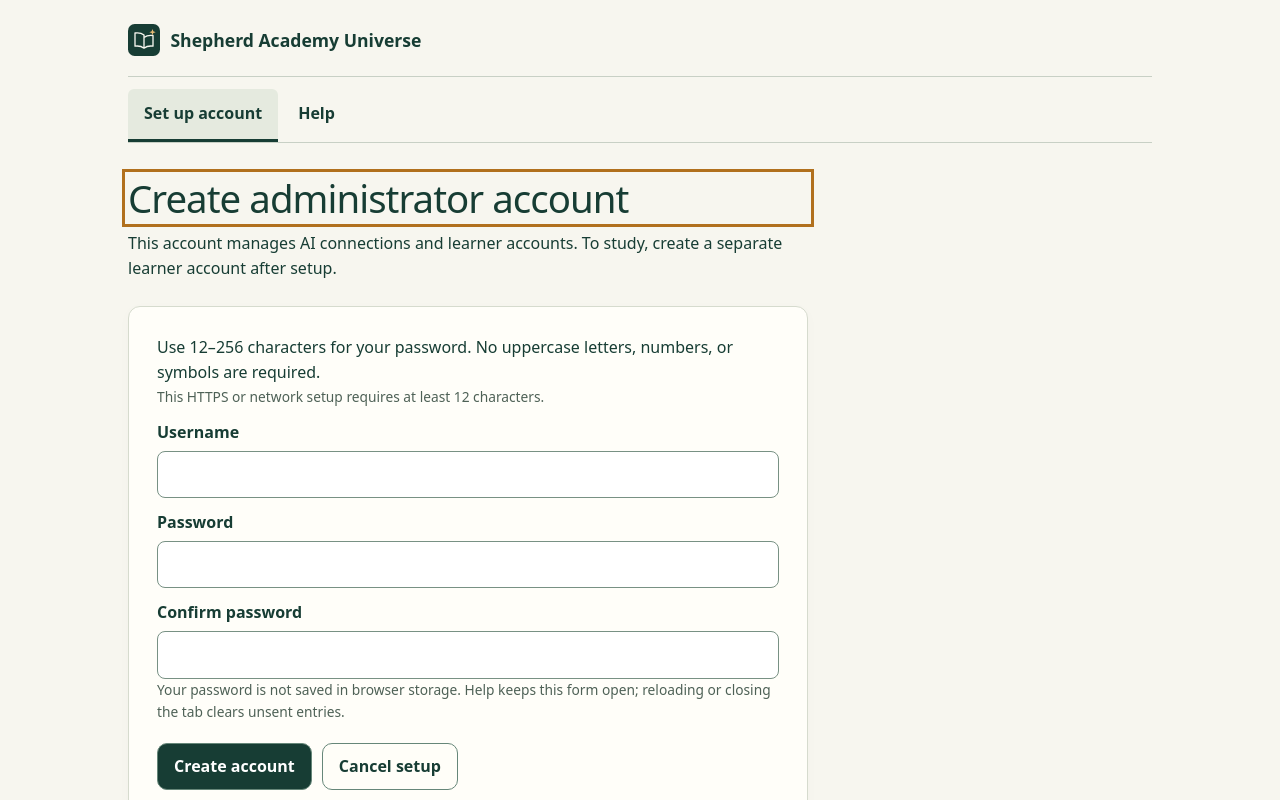
it: browser first-account setup › uses the server's network password policy before entry
Expected: the button "Create account" is shown, [157, 743, 312, 790]
Type "Synthetic" into the field labelled "Username".
click(468, 474); type("Synthetic")  # box [157, 451, 779, 498]
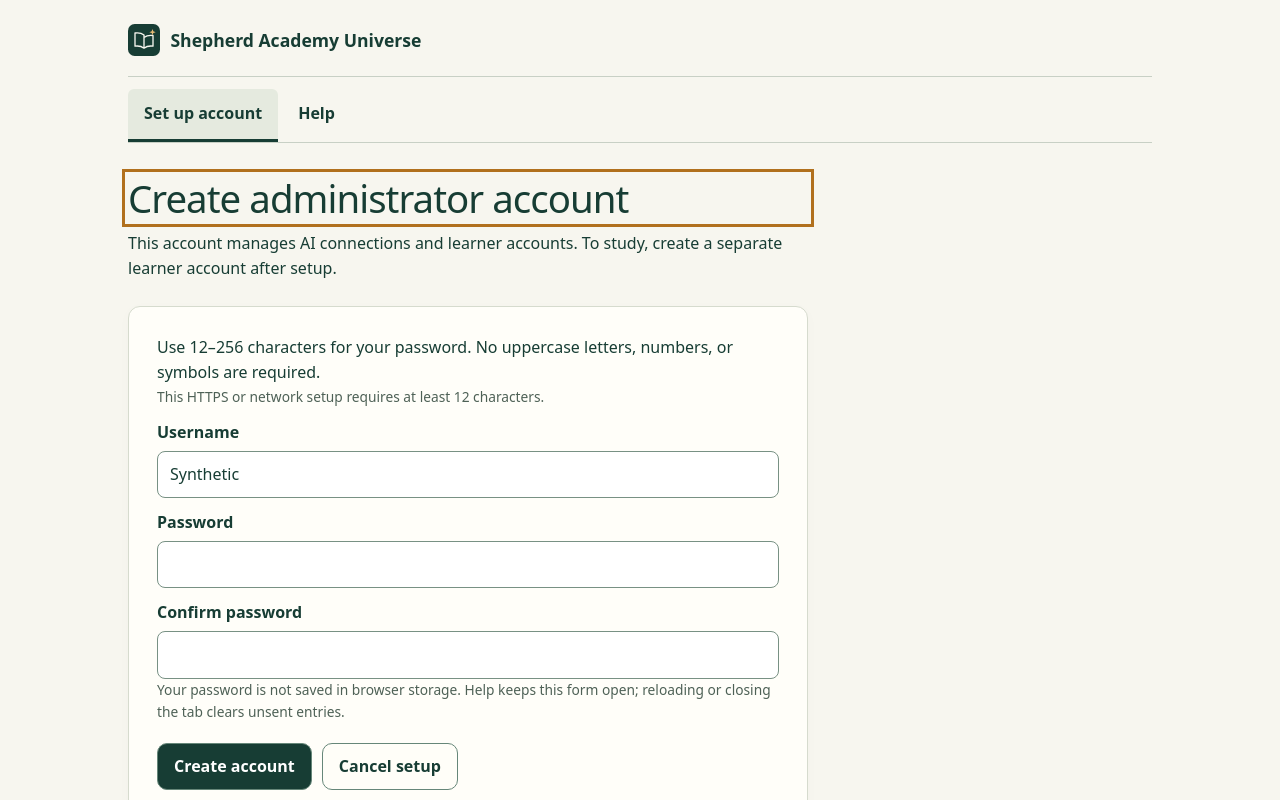
Type "simple" into the password field labelled "Password".
click(468, 565); type("simple")  # box [157, 541, 779, 588]
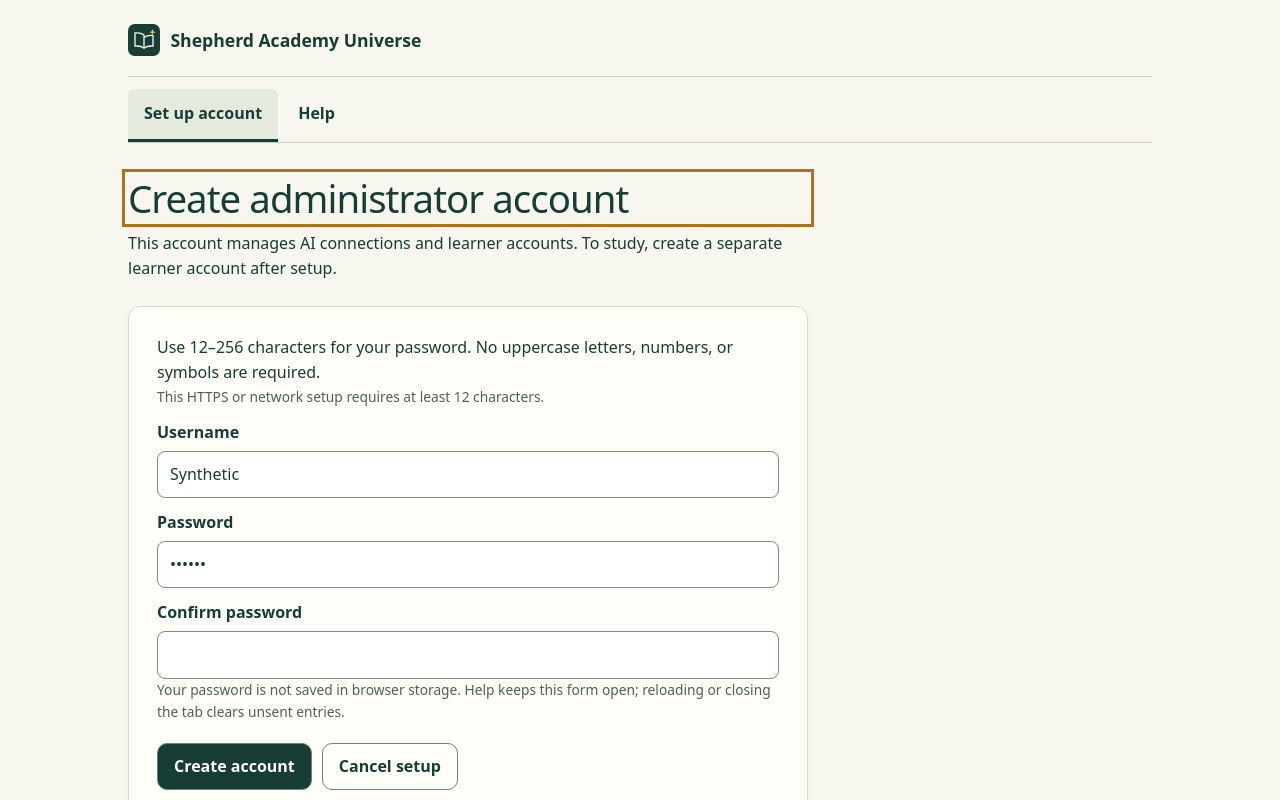
Type "simple" into the password field labelled "Confirm password".
click(468, 655); type("simple")  # box [157, 631, 779, 679]
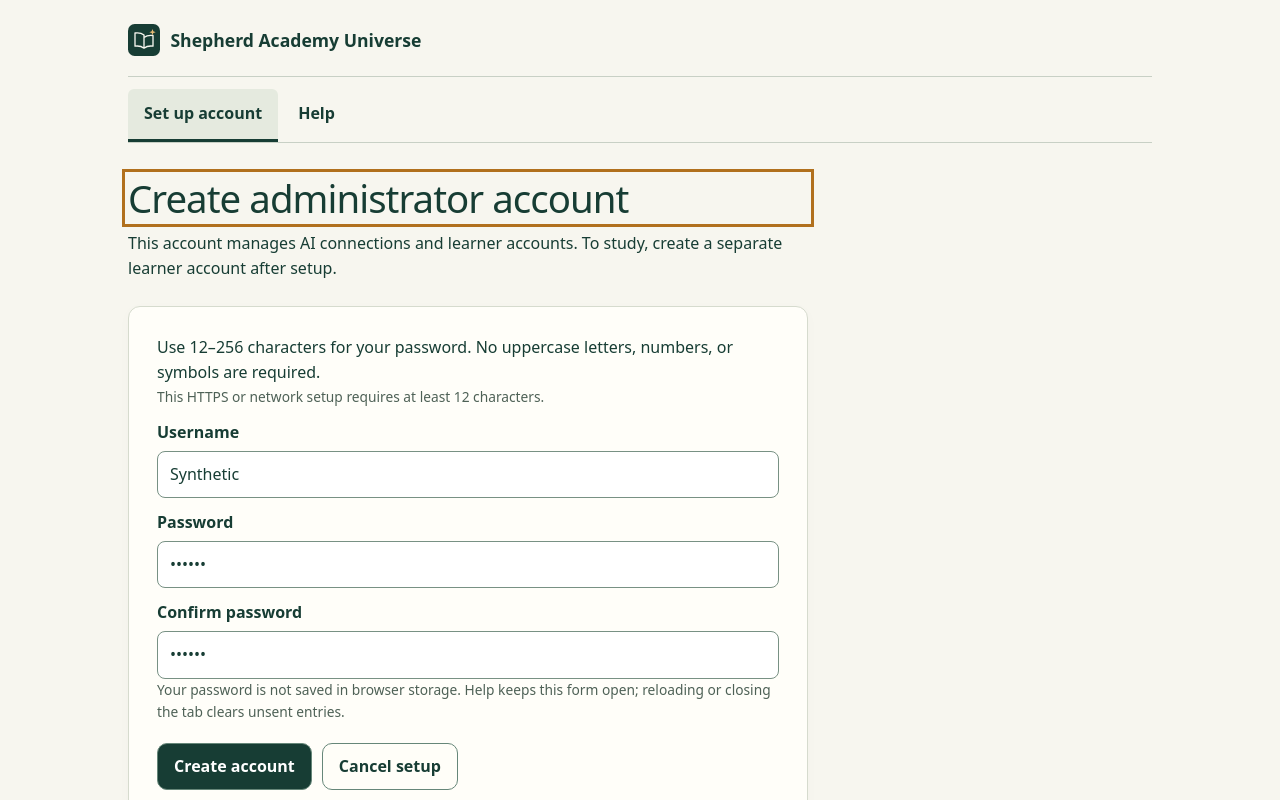
Click the button "Create account".
click(234, 766)  # box [157, 743, 312, 790]
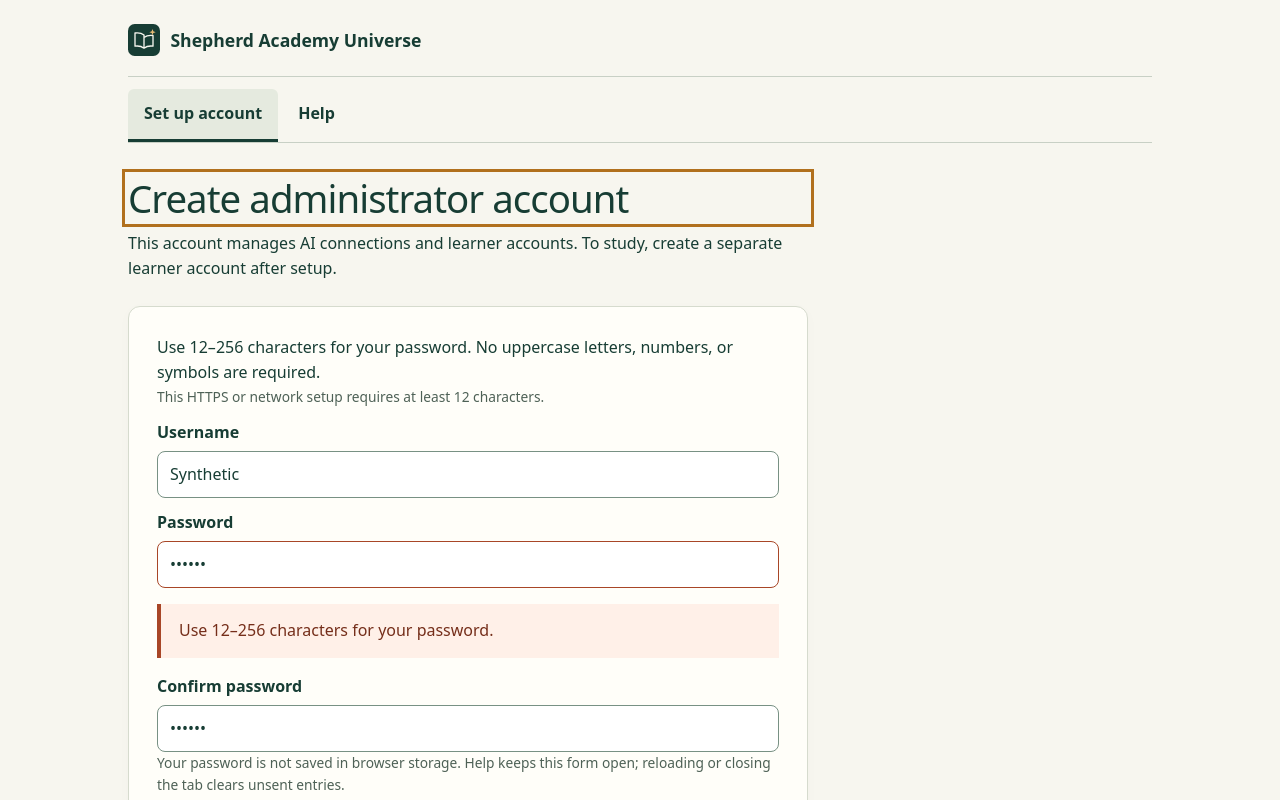
Expected: the text "This HTTPS or network setup requires at least 12 characters." is shown, [157, 387, 544, 406]
Expected: the text "Use 12–256 characters for your password." is shown, [157, 604, 779, 658]
